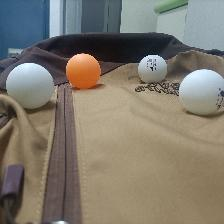WhiteBall: (6, 61, 53, 109), (178, 68, 223, 116), (137, 54, 166, 82)
YellowBall: (65, 53, 101, 88)
